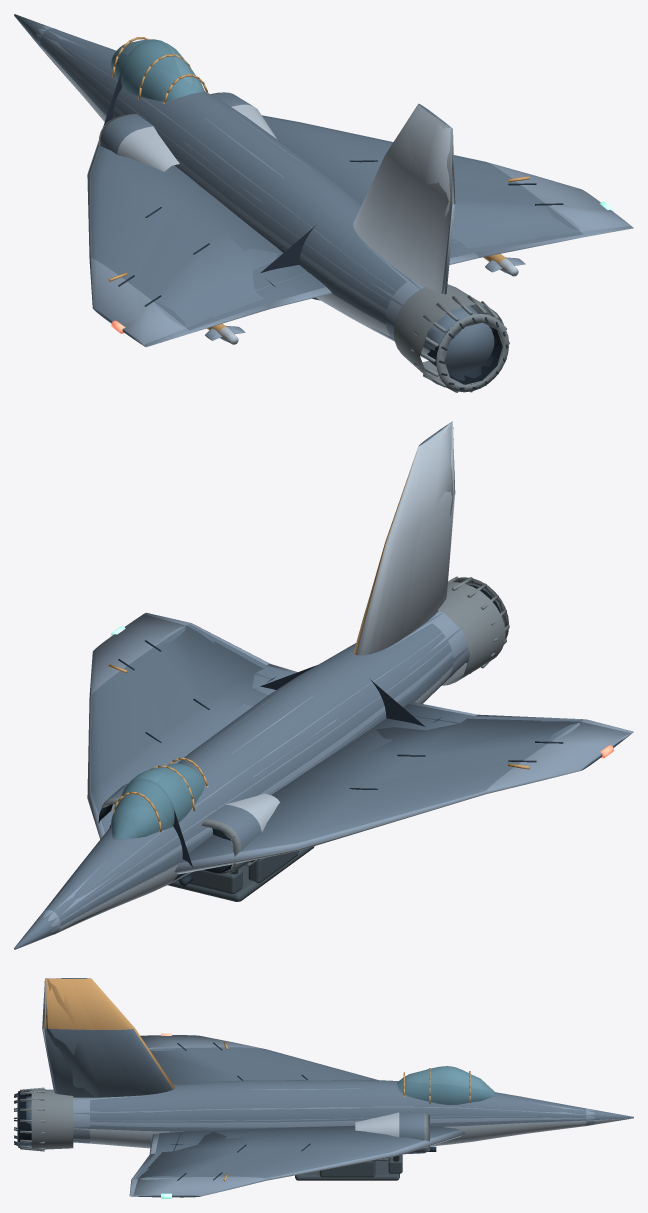
The model's file is mirage.glb.
3 views of the same model, one above another, from view 1: azimuth 30°, elevation 25°; view 2: azimuth 150°, elevation 25°; view 3: azimuth 270°, elevation 25° (orthographic). The views are drawn at different scales.
Parts seen in each view (by area): view 1: Airframe shell mesh, Airframe shell.002 mesh, Airframe shell.001 mesh, Central fuselage, Aft nacelles, Port wing, Canopy glass, Canopy glass.001, Starboard wing, Hinged Aileron.001, Forward fuselage, Hinged Aileron; view 2: Airframe shell mesh, Airframe shell.002 mesh, Airframe shell.001 mesh, Central fuselage, Canopy glass, Aft nacelles, Starboard wing, Port wing, Cockpit shell mesh, Forward fuselage, Canopy glass.001; view 3: Airframe shell mesh, Airframe shell.002 mesh, Airframe shell.001 mesh, Aft nacelles, Central fuselage, Canopy glass, Cockpit shell mesh, Starboard wing, Canopy glass.001, Port wing, Forward fuselage.
Part boxes in pixels (x1,y1,x2,y2): Airframe shell mesh: (36, 26, 613, 392); Airframe shell.002 mesh: (14, 14, 630, 391); Airframe shell.001 mesh: (14, 14, 632, 390); Central fuselage: (101, 39, 369, 300); Aft nacelles: (262, 115, 471, 380); Port wing: (125, 213, 286, 342); Canopy glass: (111, 39, 204, 101); Canopy glass.001: (111, 39, 203, 100); Starboard wing: (347, 168, 628, 257); Hinged Aileron.001: (475, 227, 633, 257); Forward fuselage: (43, 28, 145, 124); Hinged Aileron: (134, 303, 270, 346); Airframe shell mesh: (14, 428, 613, 949); Airframe shell.002 mesh: (15, 423, 630, 949); Airframe shell.001 mesh: (15, 422, 631, 948); Central fuselage: (101, 663, 424, 880); Canopy glass: (111, 763, 204, 838); Aft nacelles: (260, 423, 499, 725); Starboard wing: (87, 615, 286, 798); Port wing: (354, 712, 628, 796); Cockpit shell mesh: (167, 808, 314, 901); Forward fuselage: (15, 779, 191, 949); Canopy glass.001: (111, 763, 204, 837); Airframe shell mesh: (14, 978, 633, 1198); Airframe shell.002 mesh: (17, 978, 633, 1197); Airframe shell.001 mesh: (18, 978, 593, 1197); Aft nacelles: (18, 978, 192, 1149); Central fuselage: (193, 1066, 455, 1153); Canopy glass: (397, 1066, 494, 1104); Cockpit shell mesh: (295, 1111, 409, 1180); Starboard wing: (129, 1140, 301, 1195); Canopy glass.001: (397, 1066, 487, 1104); Port wing: (149, 1035, 288, 1084); Forward fuselage: (455, 1068, 583, 1140).
Bounding box in the file's own units: 9.26 × 4.98 × 14.94.
